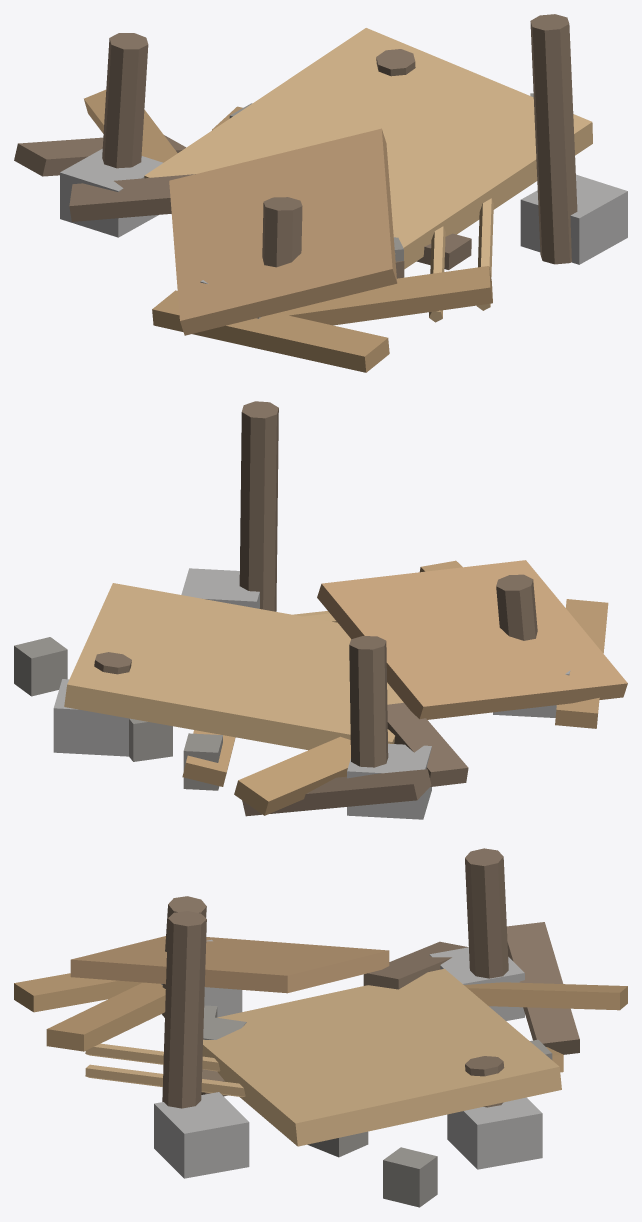
Rendered from ws_ruin_watch_tower_cheap.glb.
3 views of the same model, one above another, from view 1: azimuth 30°, elevation 25°; view 2: azimuth 150°, elevation 25°; view 3: azimuth 270°, elevation 25° (orthographic). The views are drawn at different scales.
Parts seen in each view (by area): view 1: ws_ruin_watch_tower_cheap; view 2: ws_ruin_watch_tower_cheap; view 3: ws_ruin_watch_tower_cheap.
Boxes of the visible parts, x1,y1,x2,y2 form: ws_ruin_watch_tower_cheap: (14, 14, 627, 372); ws_ruin_watch_tower_cheap: (14, 401, 627, 819); ws_ruin_watch_tower_cheap: (14, 848, 627, 1207).
Size of the model in its own units: 1.62 by 0.7084 by 1.74.
